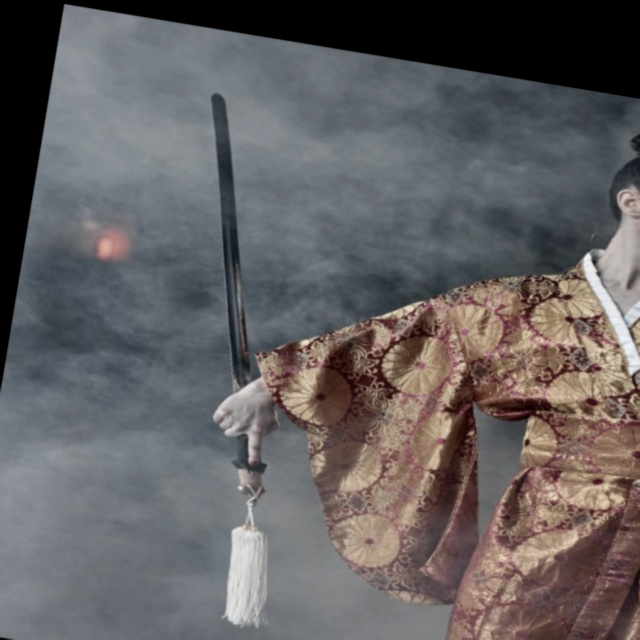Sharp-Object: (132, 83, 342, 517)
